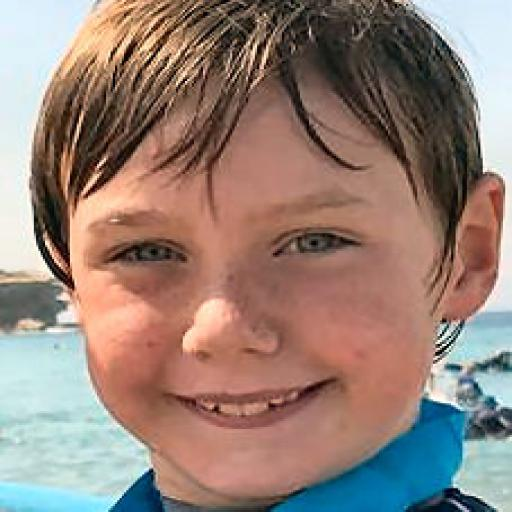Autism: (26, 10, 512, 500)
